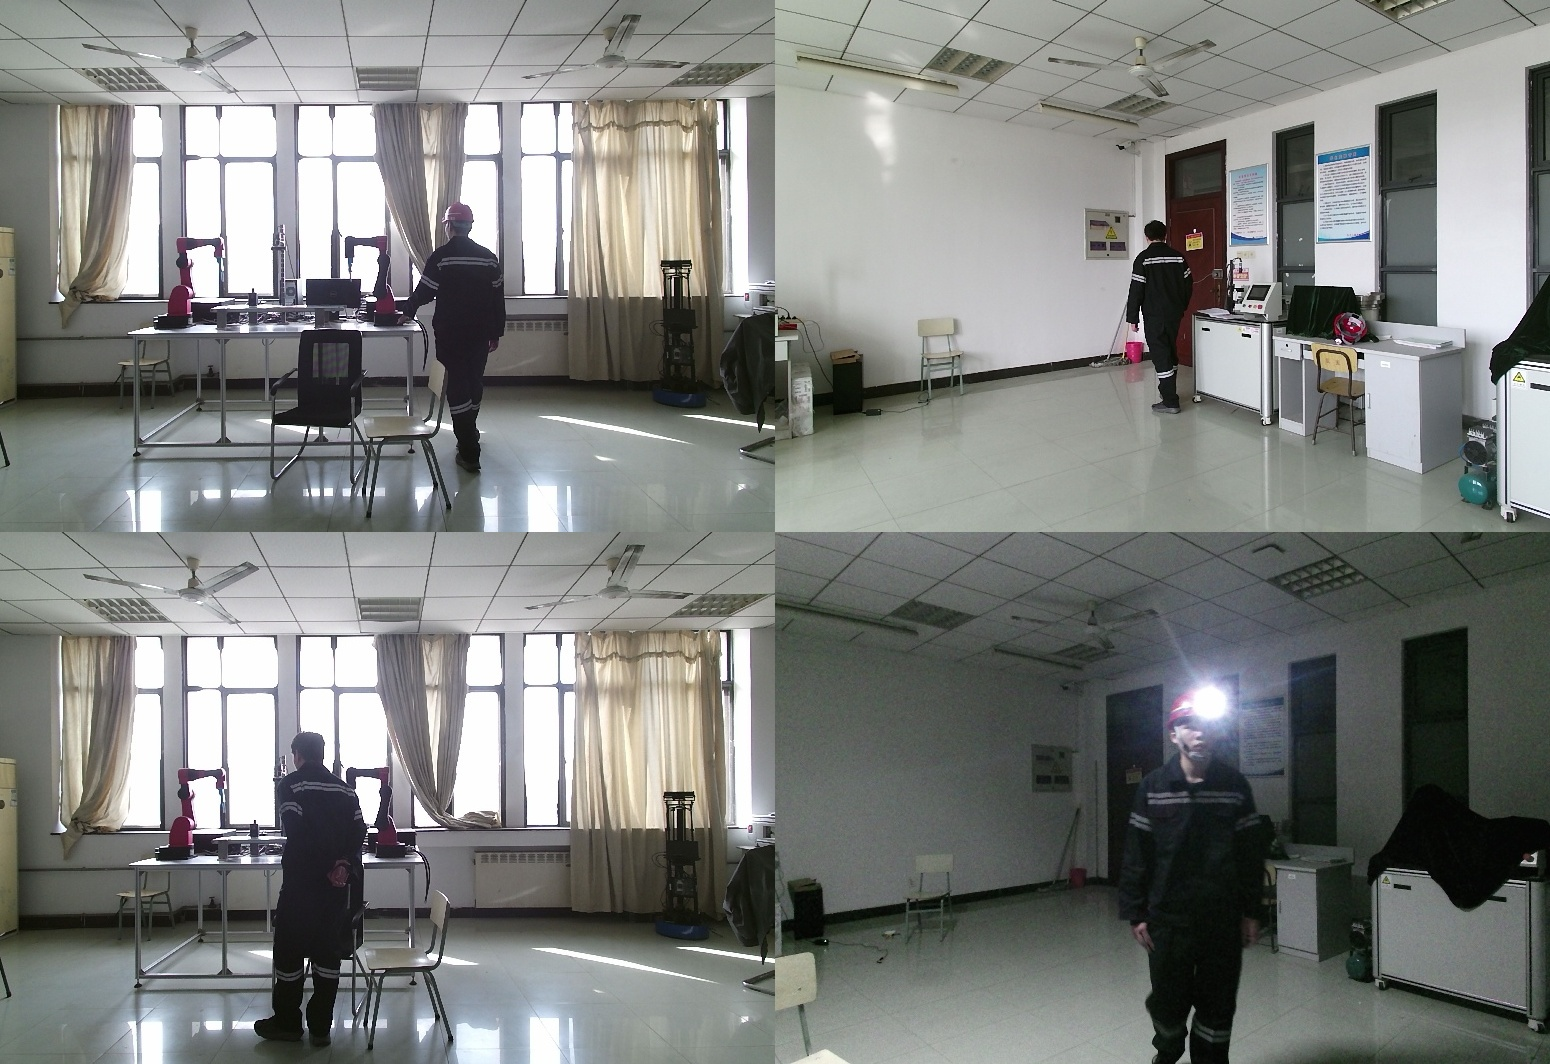person: (1117, 693, 1269, 1064), (255, 734, 369, 1043), (408, 203, 516, 478), (1126, 220, 1205, 420)
